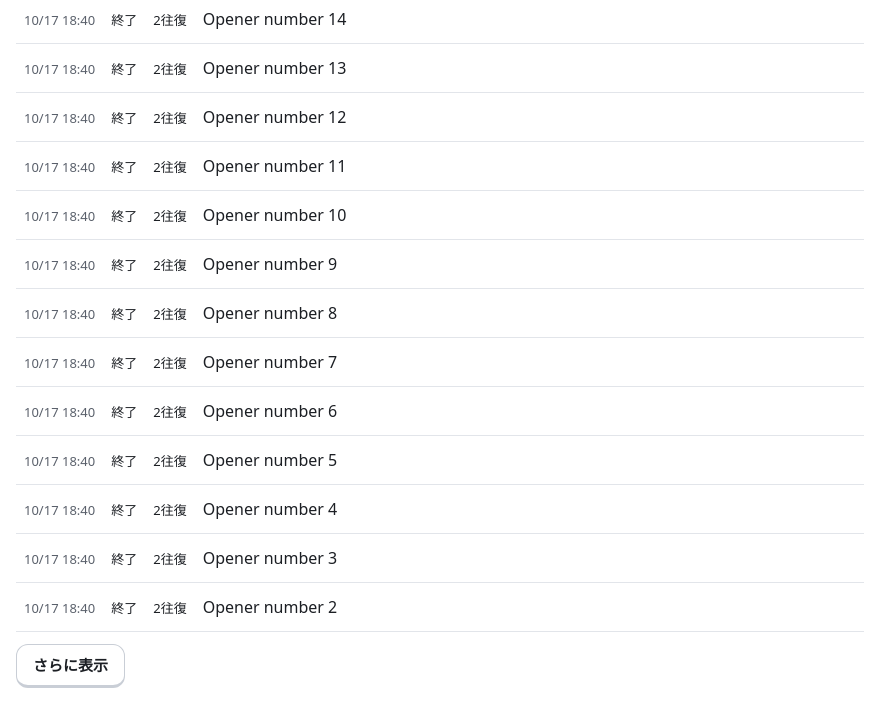
Test case: HomeScreen › loads the 21st session after さらに表示 and then hides the button
(page scrolled)
Click the button "さらに表示" at point(70, 666), box x1=16 y1=644 x2=125 y2=688
(page scrolled)
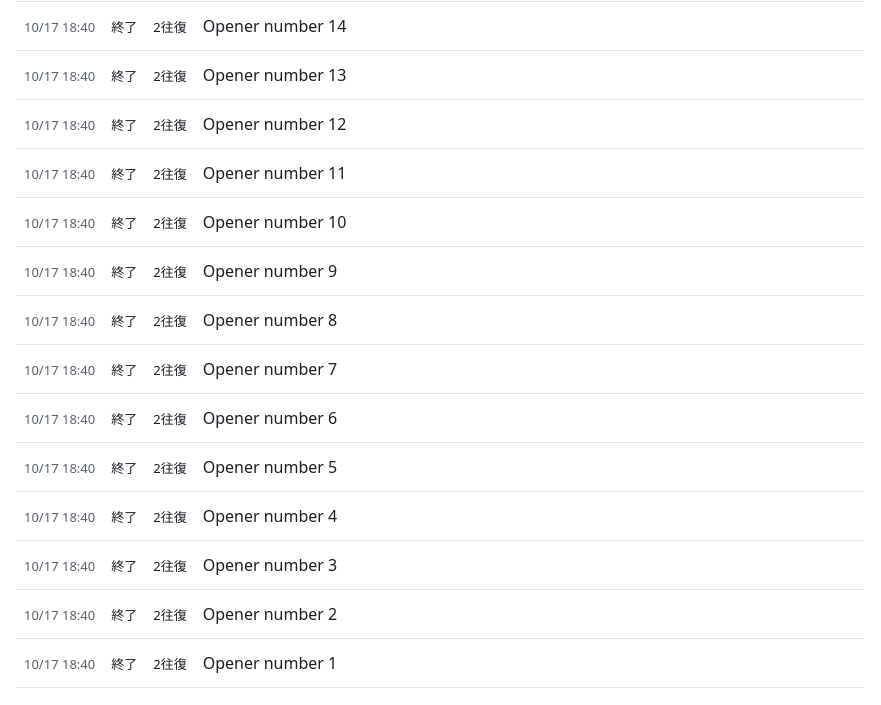
Now the text "Opener number 1" is shown, box x1=203 y1=652 x2=337 y2=674
Now the number of links is 21
Now the button "さらに表示" is gone
